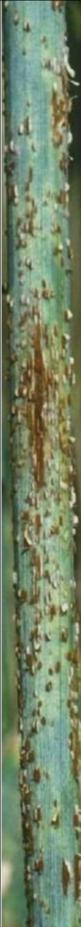Wheat: (12, 2, 72, 514), (12, 528, 73, 765), (22, 782, 81, 908)
